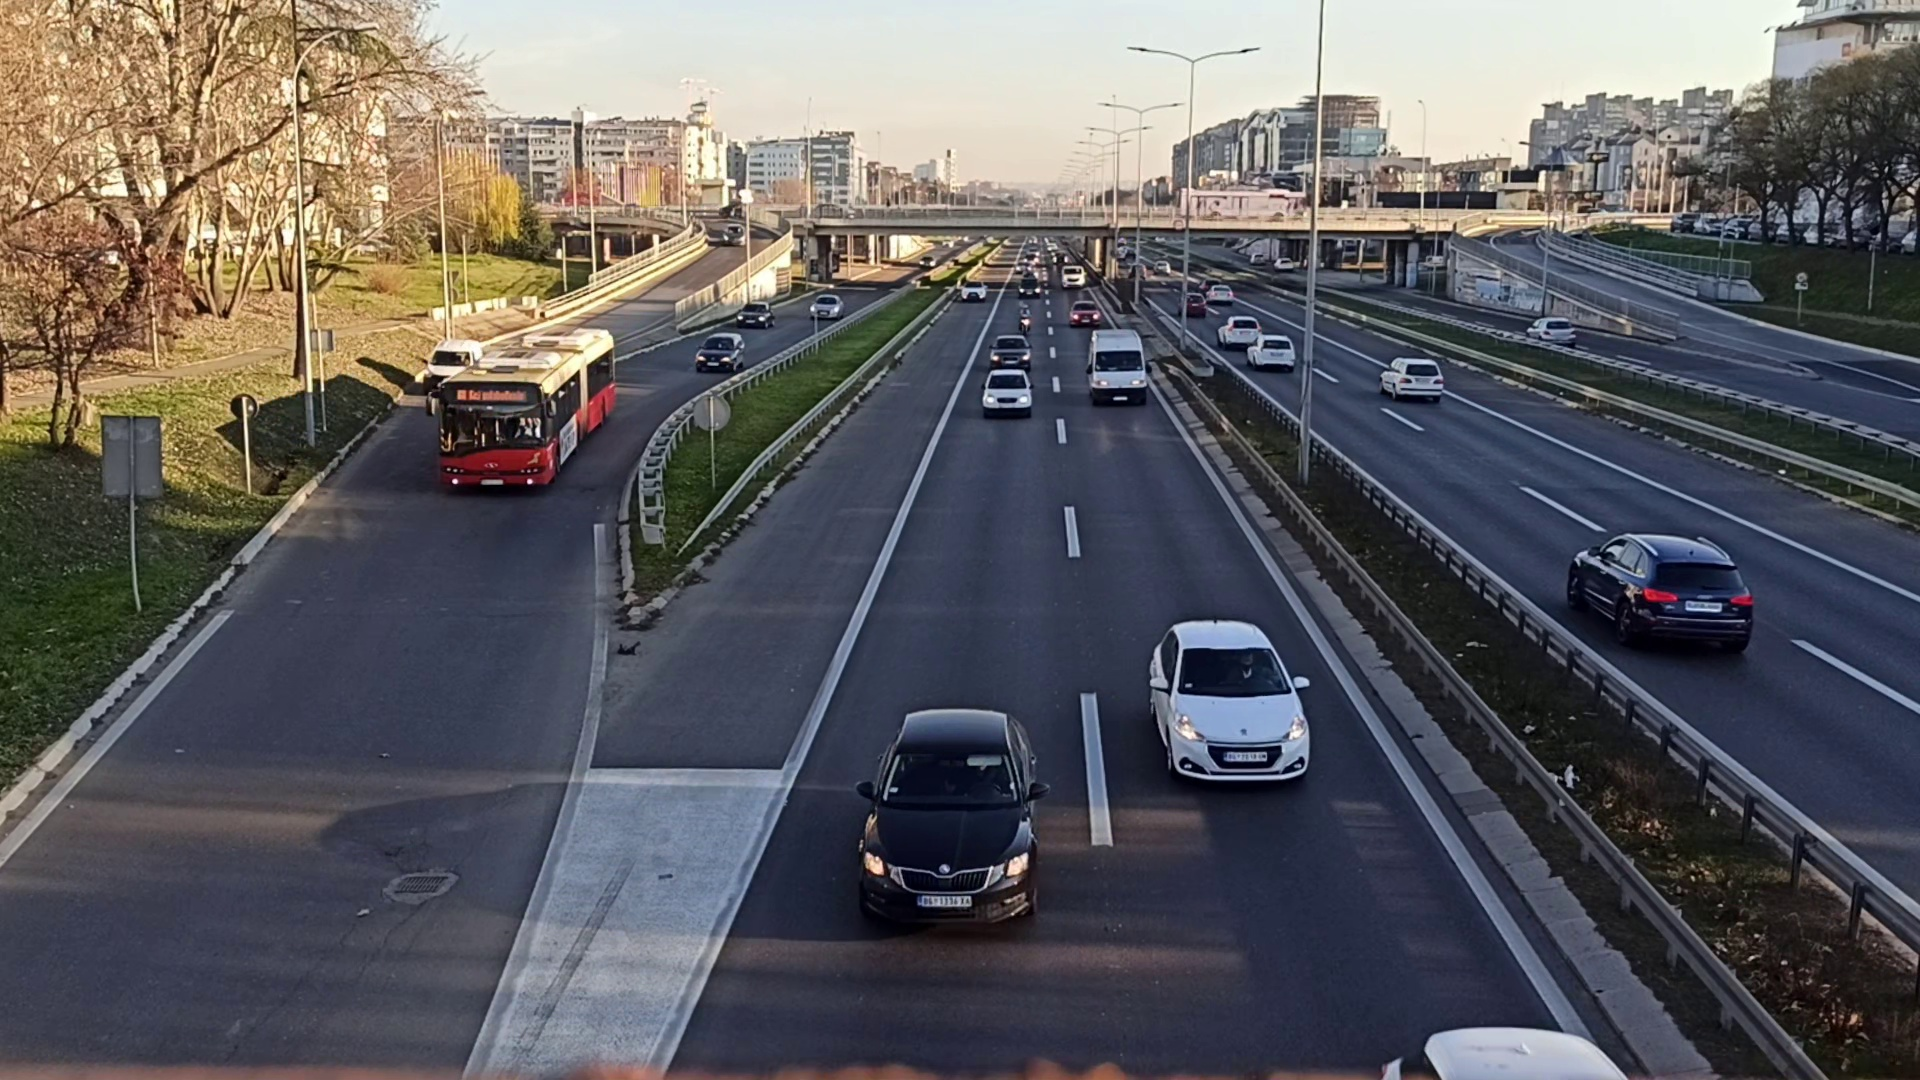bus: (443, 331, 612, 495)
car: (858, 704, 1039, 931), (1146, 616, 1309, 803), (1567, 525, 1753, 662), (1382, 357, 1440, 404), (980, 368, 1034, 415), (696, 332, 742, 369), (1247, 332, 1294, 368), (988, 332, 1031, 367), (1217, 314, 1259, 347), (737, 297, 770, 330), (1067, 303, 1100, 328)
van: (1091, 328, 1149, 404), (421, 335, 480, 381)
